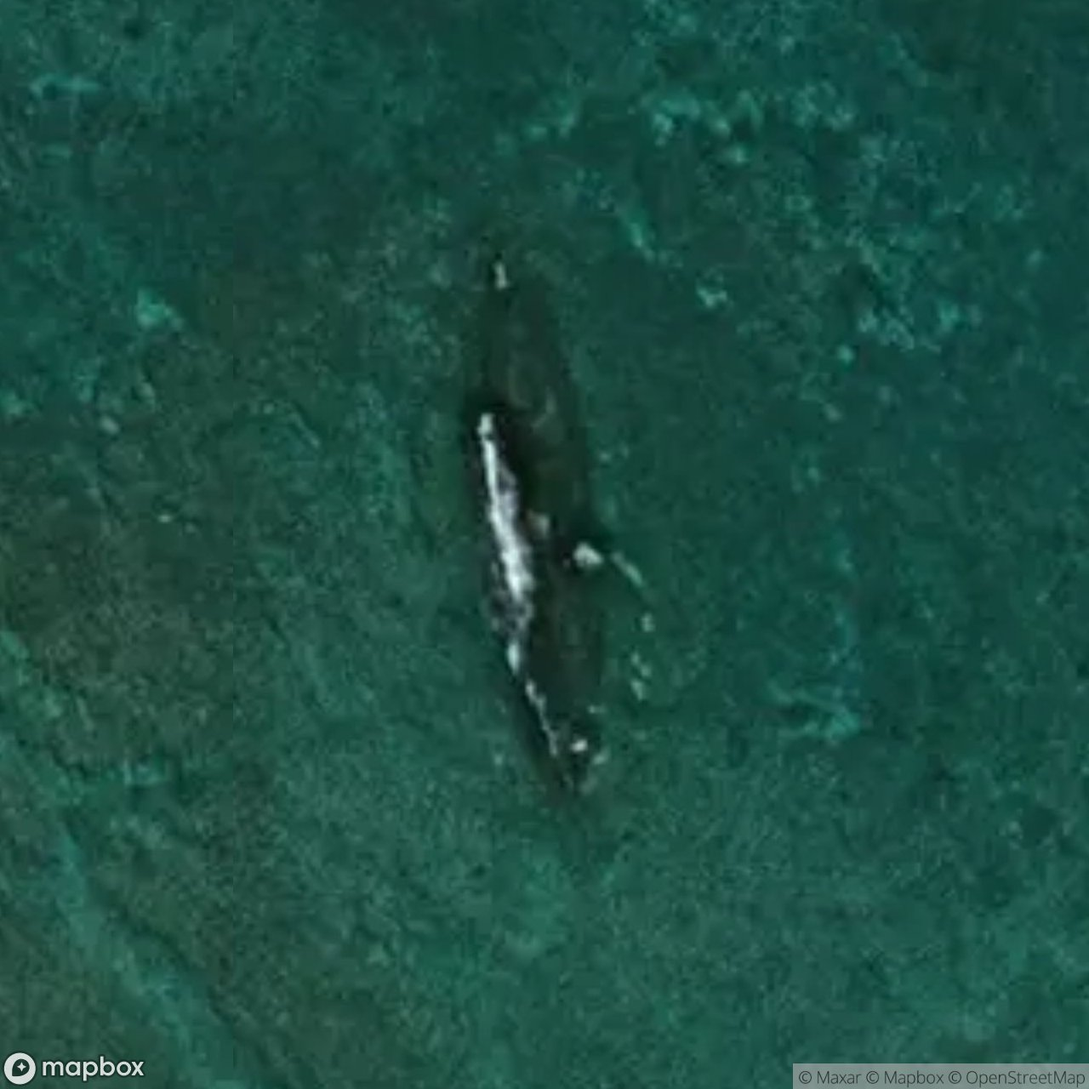Wreck: (429, 225, 646, 826)
